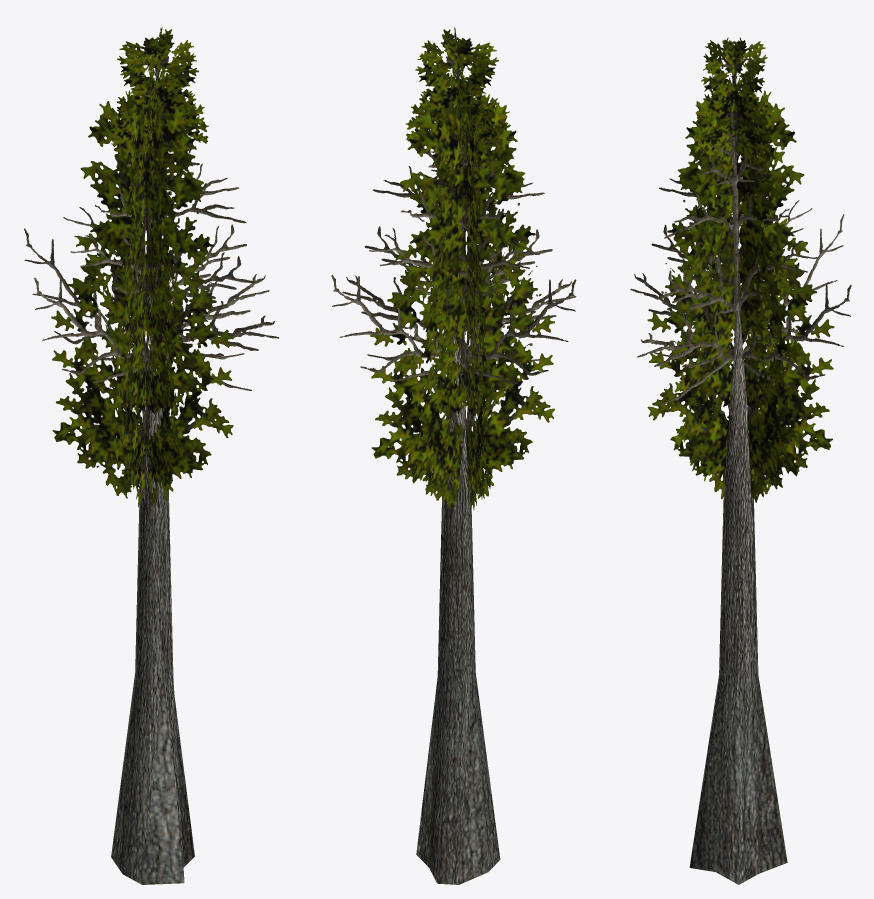
File: Sharp_Oak01.gltf
The picture shows the model from 3 angles, left to right: view 1: azimuth 30°, elevation 25°; view 2: azimuth 150°, elevation 25°; view 3: azimuth 270°, elevation 25°; orthographic projection.
Parts seen in each view (by area): view 1: Inner, Trunk, Ffol, Top; view 2: Inner, Trunk, Ffol, Top; view 3: Inner, Trunk, Ffol, Top.
Boxes of the visible parts, x1,y1,x2,y2 form: Inner: (51, 90, 233, 507); Trunk: (111, 334, 194, 884); Ffol: (24, 133, 279, 418); Top: (108, 26, 208, 156); Inner: (370, 94, 554, 509); Trunk: (416, 335, 500, 884); Ffol: (331, 130, 576, 398); Top: (405, 26, 509, 158); Inner: (647, 90, 834, 502); Trunk: (689, 300, 787, 884); Ffol: (630, 128, 851, 405); Top: (693, 37, 774, 164).
Bounding box in the file's own units: 7.18 × 22.34 × 5.88.
Materials: 2 (2 with a texture image).
